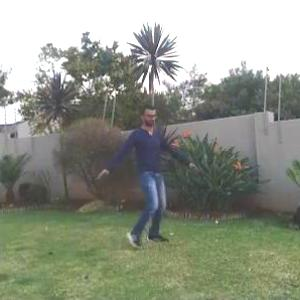land: (80, 82, 192, 268)
